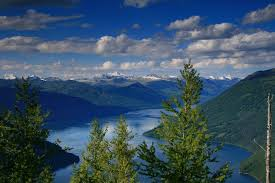mountain: (10, 73, 221, 109), (214, 69, 275, 178)
sky: (2, 2, 270, 75)
tree: (160, 56, 219, 177), (8, 77, 56, 181), (82, 117, 133, 183)
